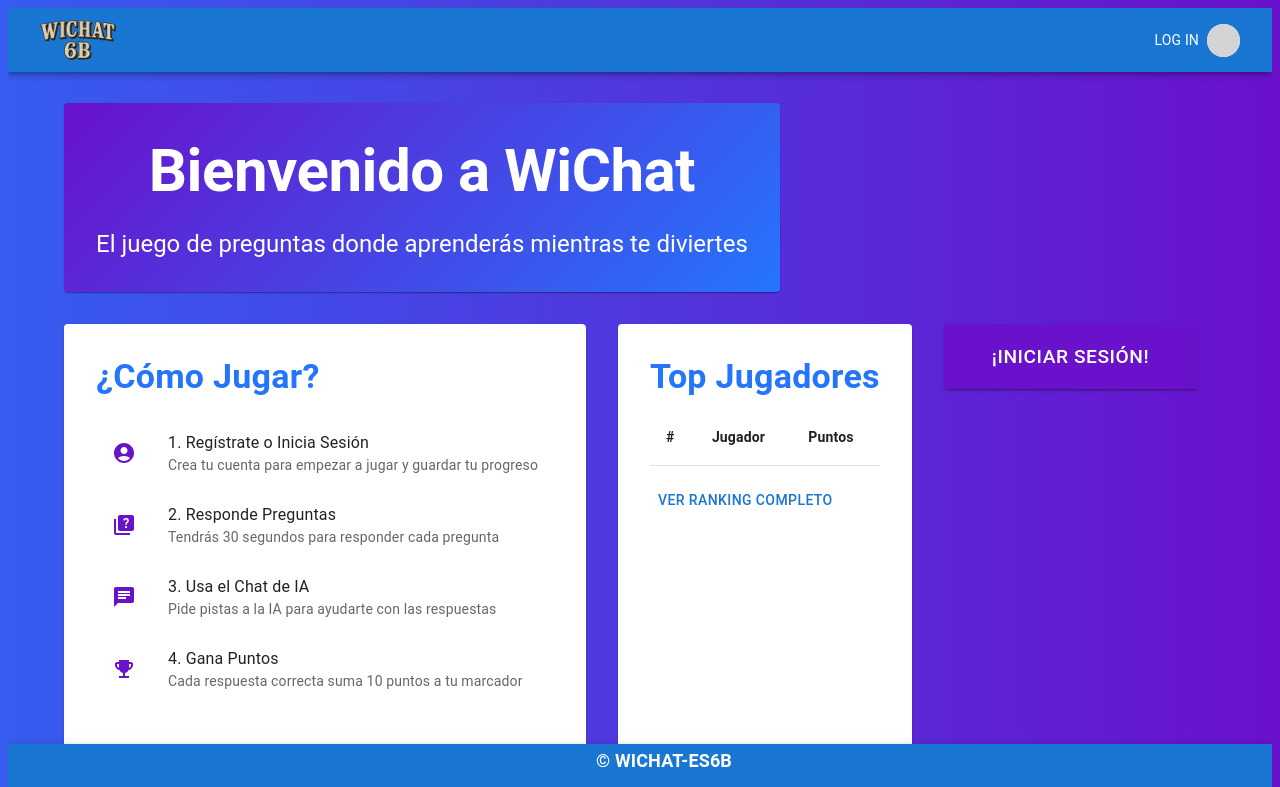
it: should navigate to login when clicking start button while not logged in
The image size is (1280, 787).
Click the button with test id "start-button" at (1070, 356), box [944, 324, 1197, 389]
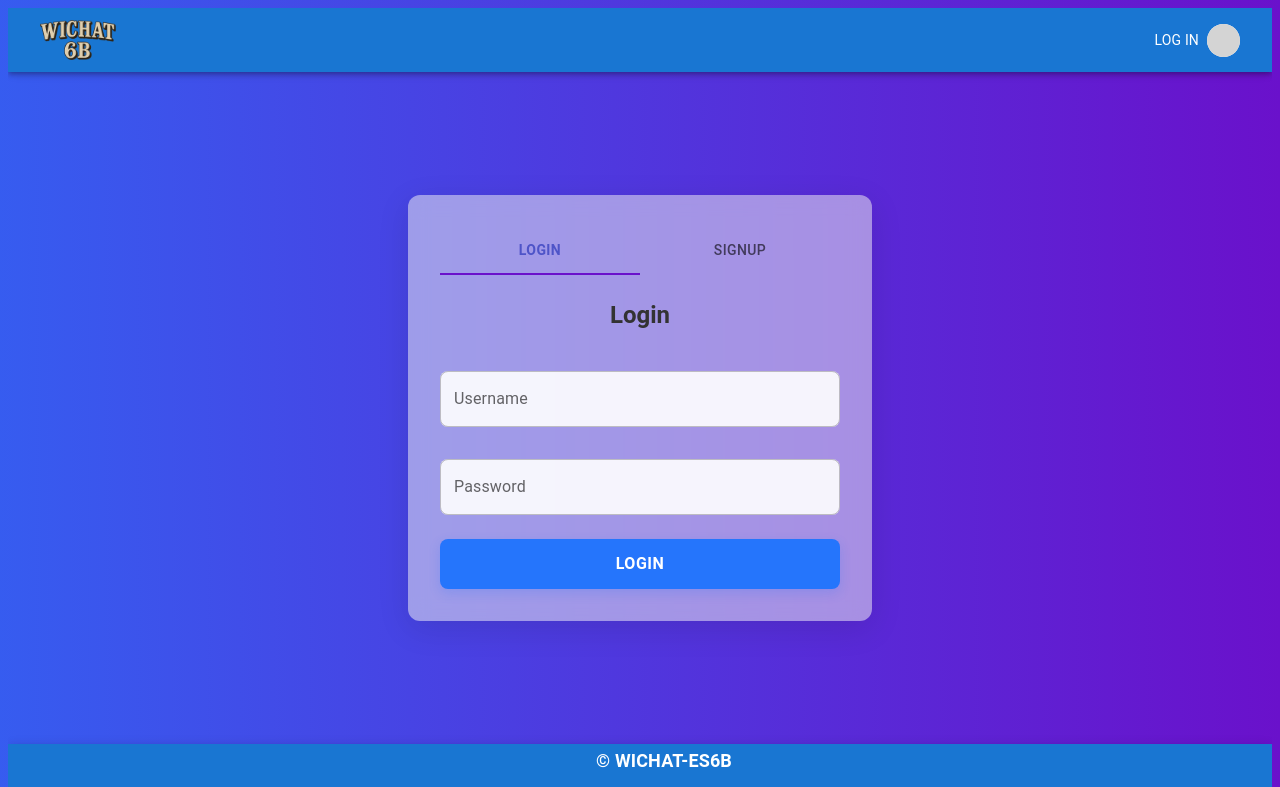
Expected: the heading "Login" is shown, [610, 301, 670, 329]
